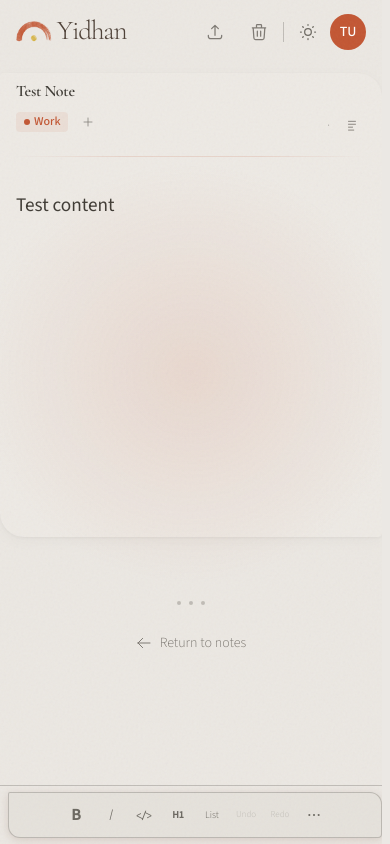
Test: Editor › delete confirmation › shows delete confirmation when delete button clicked
The width and height of the screenshot is (390, 844).
Step 1. Click the button named "Delete note" → (259, 32), box [241,14,277,50]
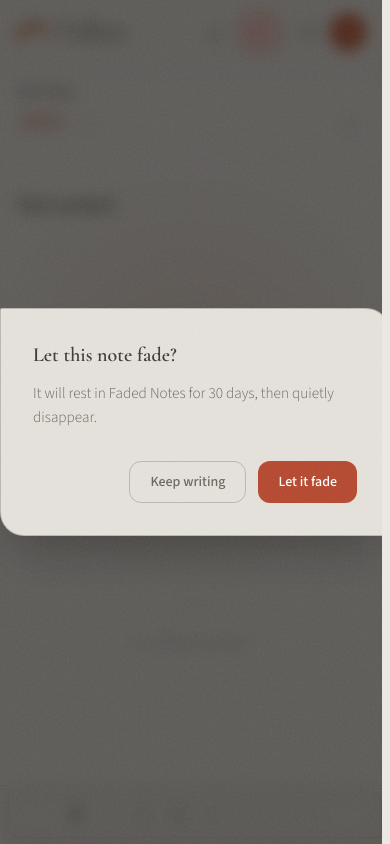
Expected: the heading "Let this note fade?" is shown, [33,343,177,367]
Expected: the button "Keep writing" is shown, [130,461,246,503]
Expected: the button "Let it fade" is shown, [258,461,357,503]
